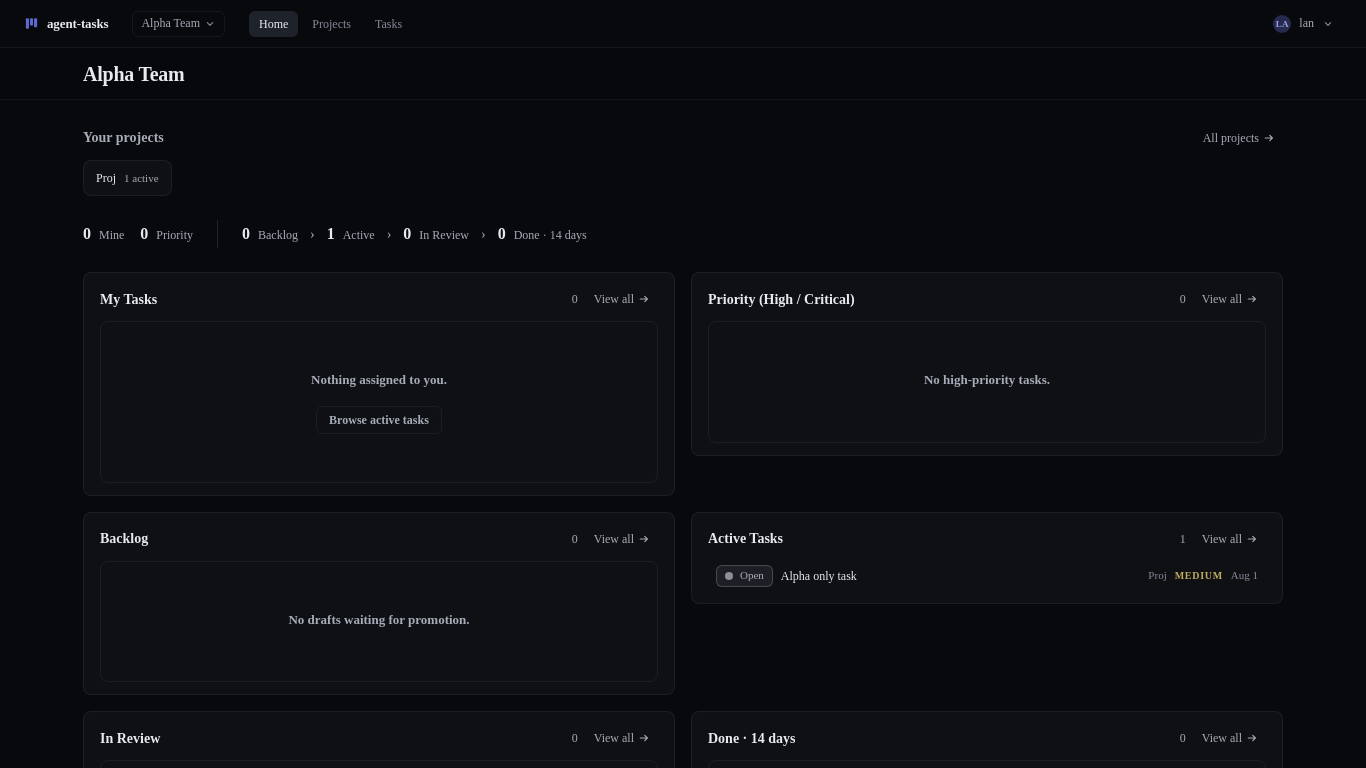
/home: current team follows the URL › a fast B then A switch ends on A, and B's late response is ignored
Click the button with aria-label "Switch team" at coordinates (179, 24), box [132,10,225,36]
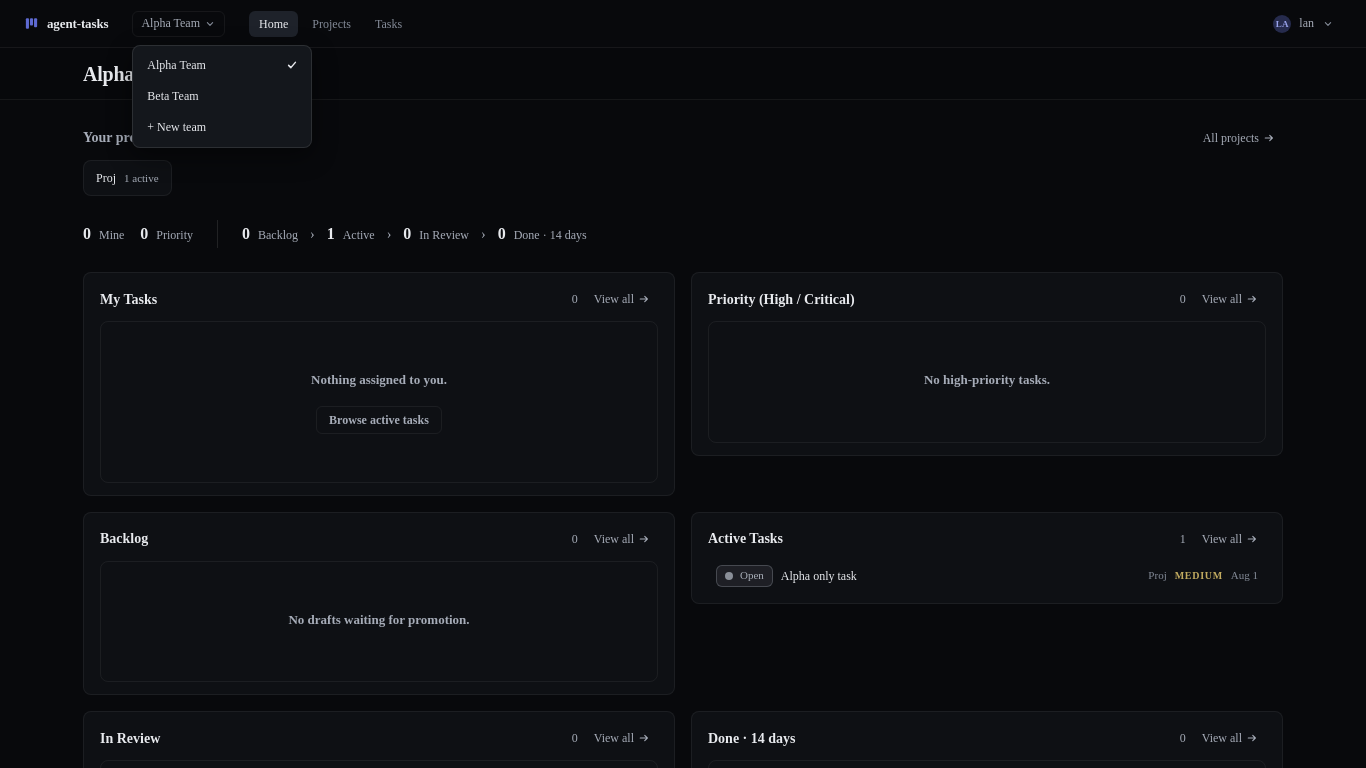
Click the menu item "Beta Team" at coordinates (222, 96), box [137,80,307,112]
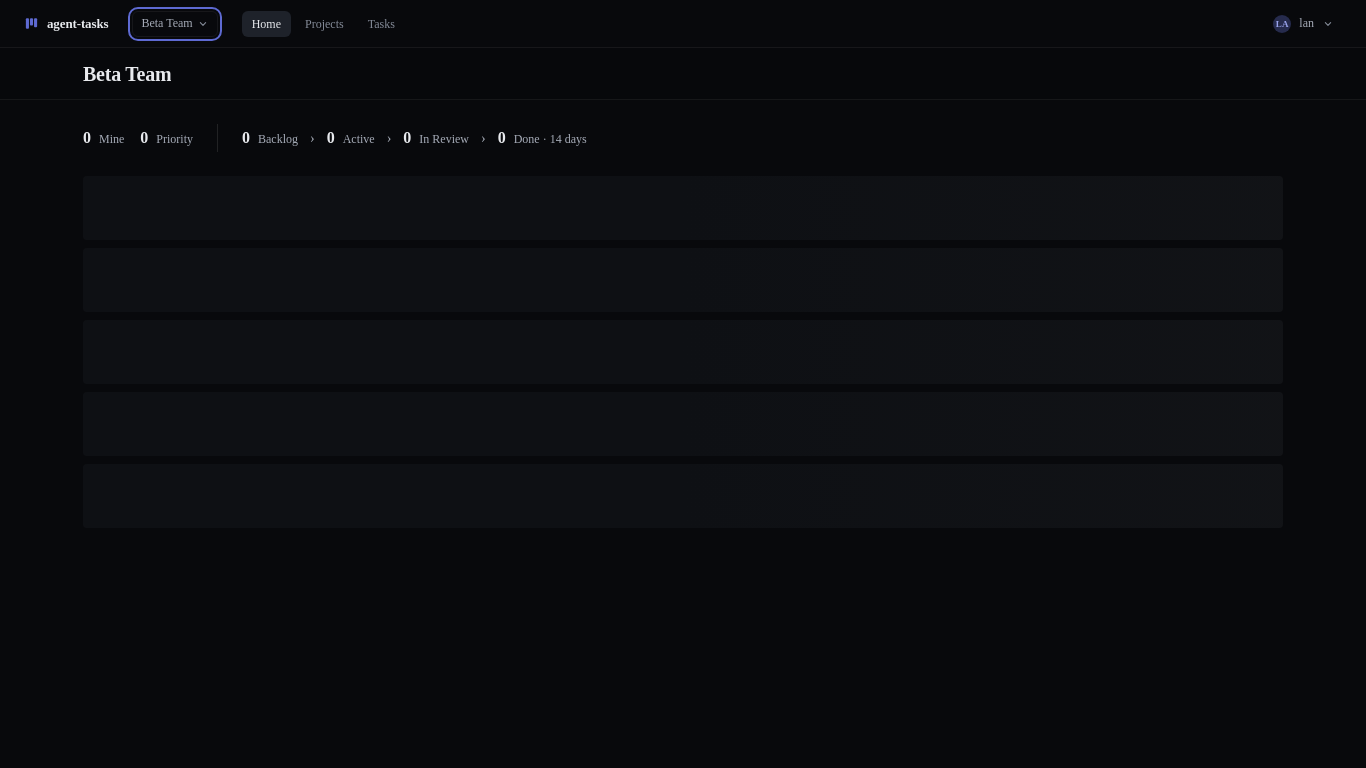
Click the button with aria-label "Switch team" at coordinates (175, 24), box [132,10,218,36]
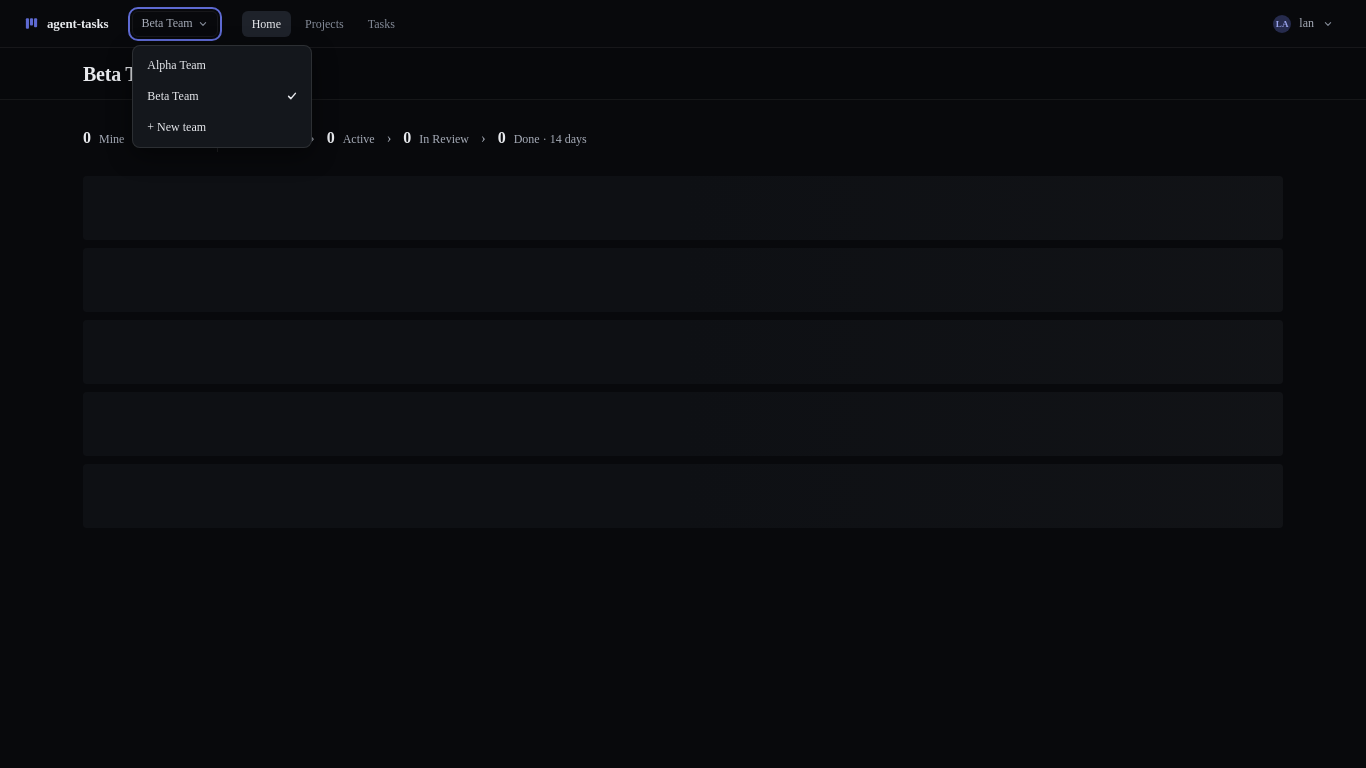
Click the menu item "Alpha Team" at coordinates (222, 65), box [137,50,307,80]
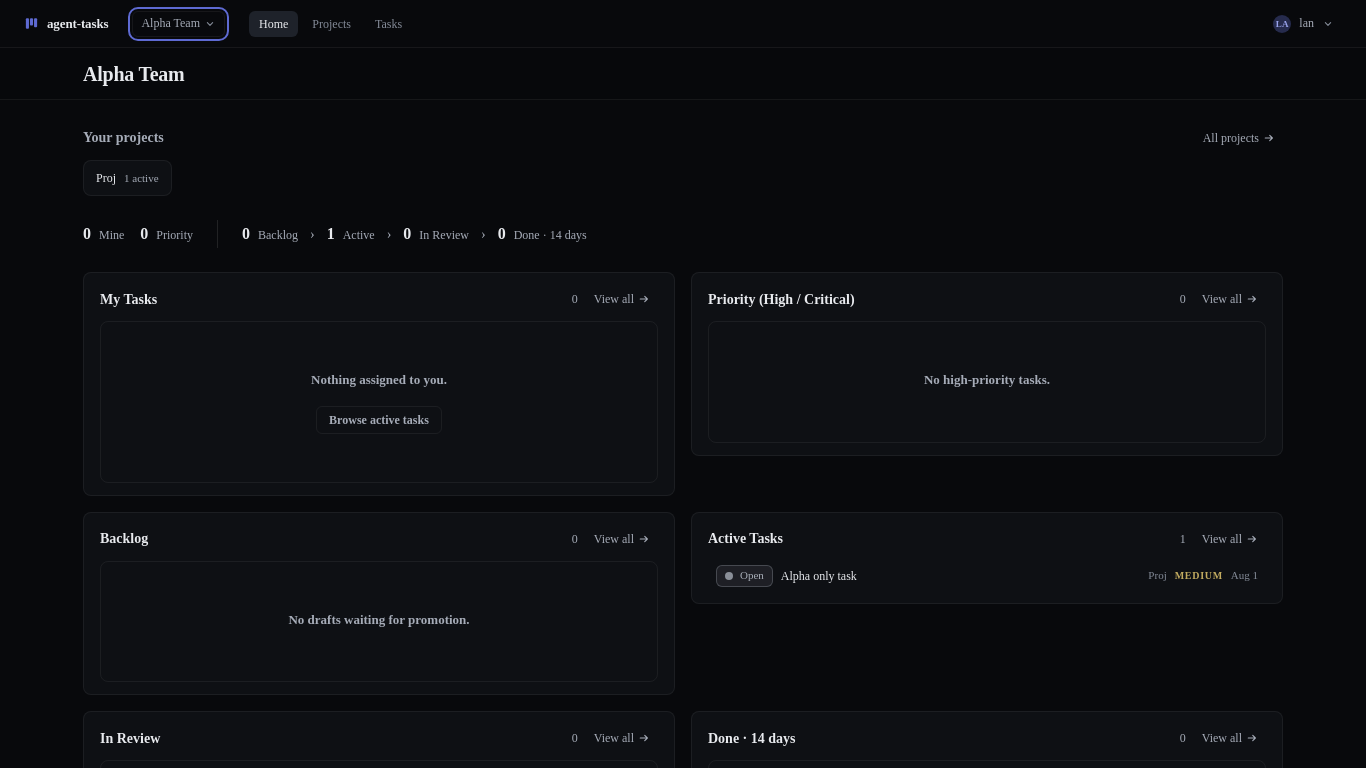
Check: the heading "Alpha Team" is shown, box [83,62,184,86]
Check: the text "Alpha Team" is shown, box [141,16,200,31]
